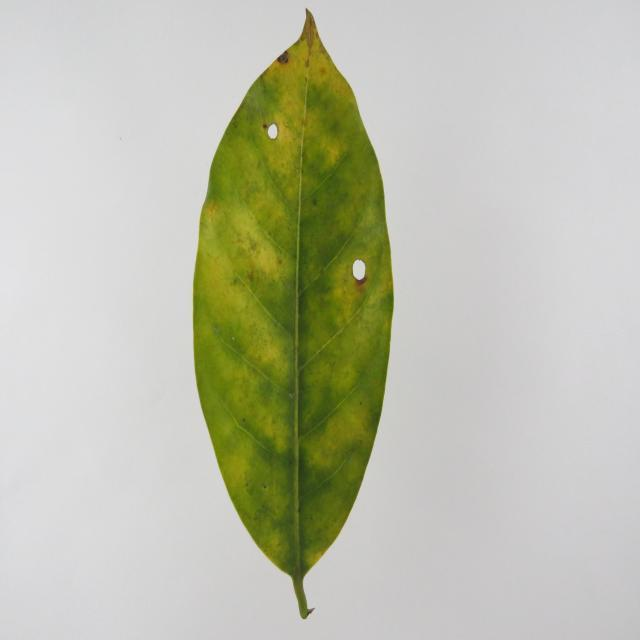DeficienciaNutricional-Nitrogeno: (194, 14, 392, 612)
